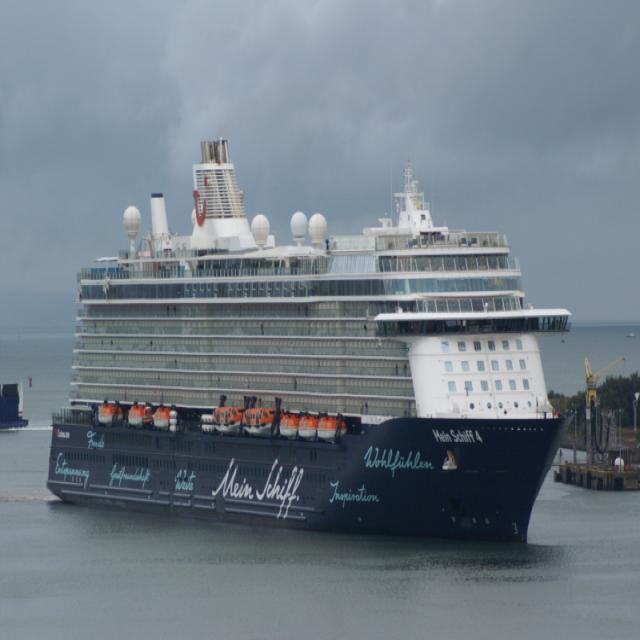cruises: (44, 137, 576, 559)
